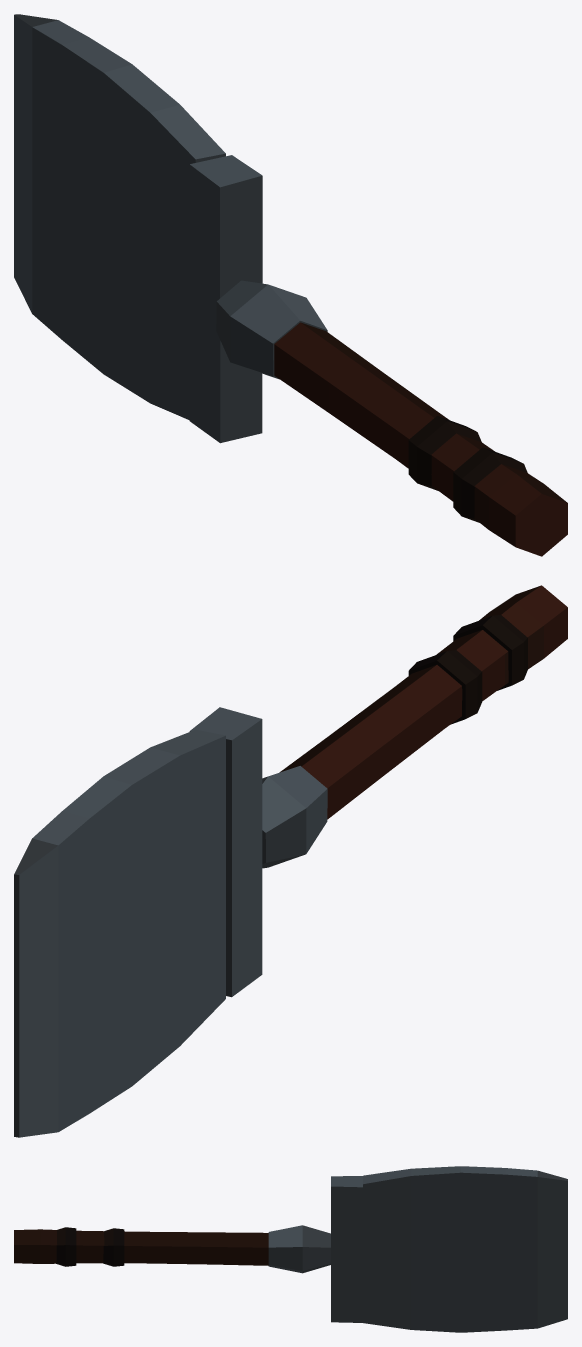
Rendered from shovel_a.obj.
3 renders of one model, top to bottom at view 1: azimuth 30°, elevation 25°; view 2: azimuth 150°, elevation 25°; view 3: azimuth 270°, elevation 25°, orthographic. The views are drawn at different scales.
Parts seen in each view (by area): view 1: shovel_blade, shovel_handle, shovel_collar, shovel_socket, shovel_grip; view 2: shovel_blade, shovel_handle, shovel_collar, shovel_socket, shovel_grip; view 3: shovel_blade, shovel_handle, shovel_collar, shovel_socket, shovel_grip.
Part boxes in pixels (left/top/right/bottom): shovel_blade: left=14, top=14, right=225, bottom=420; shovel_handle: left=274, top=322, right=567, bottom=556; shovel_collar: left=189, top=155, right=262, bottom=443; shovel_socket: left=216, top=280, right=327, bottom=379; shovel_grip: left=408, top=416, right=527, bottom=522; shovel_blade: left=14, top=729, right=225, bottom=1137; shovel_handle: left=279, top=585, right=567, bottom=819; shovel_collar: left=189, top=707, right=262, bottom=997; shovel_socket: left=262, top=766, right=327, bottom=868; shovel_grip: left=408, top=615, right=527, bottom=724; shovel_blade: left=363, top=1166, right=567, bottom=1332; shovel_handle: left=14, top=1229, right=268, bottom=1265; shovel_collar: left=331, top=1176, right=362, bottom=1322; shovel_socket: left=268, top=1225, right=330, bottom=1273; shovel_grip: left=56, top=1227, right=124, bottom=1266.
Bounding box in the file's own units: 0.0522 × 0.1984 × 0.622.
